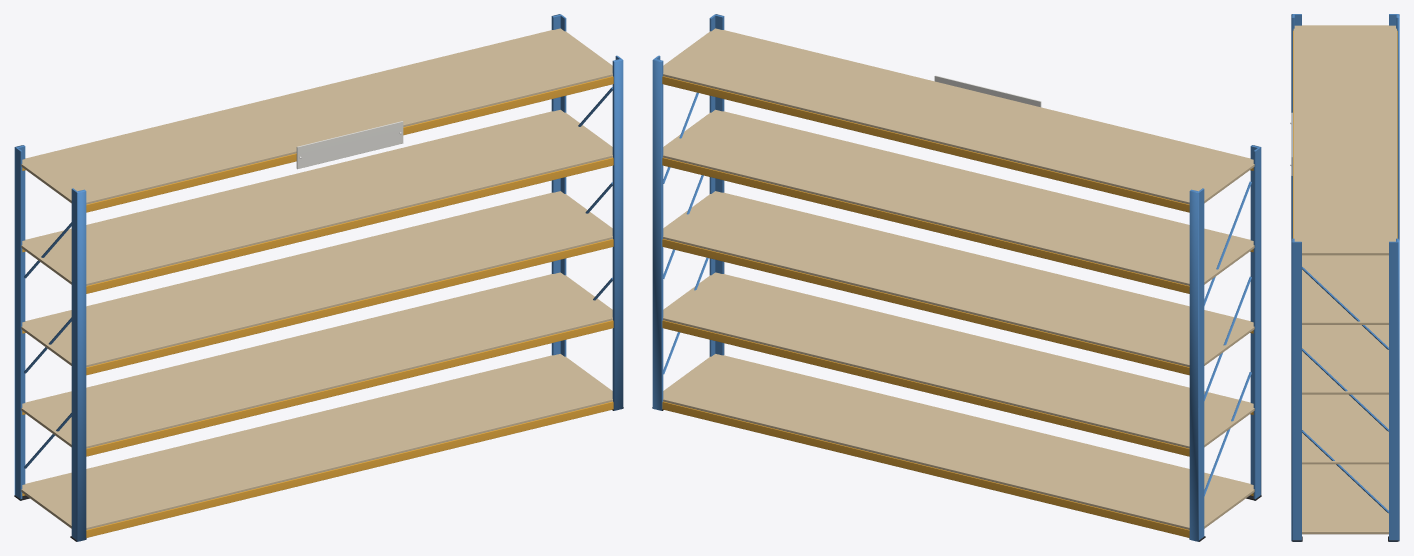
Rendered from industrial.workshop.shelf_delivery.glb.
The picture shows the model from 3 angles, left to right: view 1: azimuth 30°, elevation 25°; view 2: azimuth 150°, elevation 25°; view 3: azimuth 270°, elevation 25°; orthographic projection. The views are drawn at different scales.
Visible parts, largest first — view 1: main__timber_dca, main__paint_eb4, main__paint_59c, main__paint_eee; view 2: main__timber_dca, main__paint_eb4, main__paint_59c, main__paint_eee; view 3: main__timber_dca, main__paint_59c, main__paint_eb4.
Part boxes in pixels (<box>): main__timber_dca: <box>21,28,612,529</box>; main__paint_eb4: <box>22,76,613,537</box>; main__paint_59c: <box>14,14,623,541</box>; main__paint_eee: <box>296,121,403,169</box>; main__timber_dca: <box>663,28,1254,529</box>; main__paint_eb4: <box>662,76,1253,537</box>; main__paint_59c: <box>652,14,1261,541</box>; main__paint_eee: <box>934,75,1041,107</box>; main__timber_dca: <box>1293,25,1396,534</box>; main__paint_59c: <box>1291,14,1399,541</box>; main__paint_eb4: <box>1293,30,1397,238</box>.
Size of the model in its own units: 3.61 by 2.2 by 0.727.
